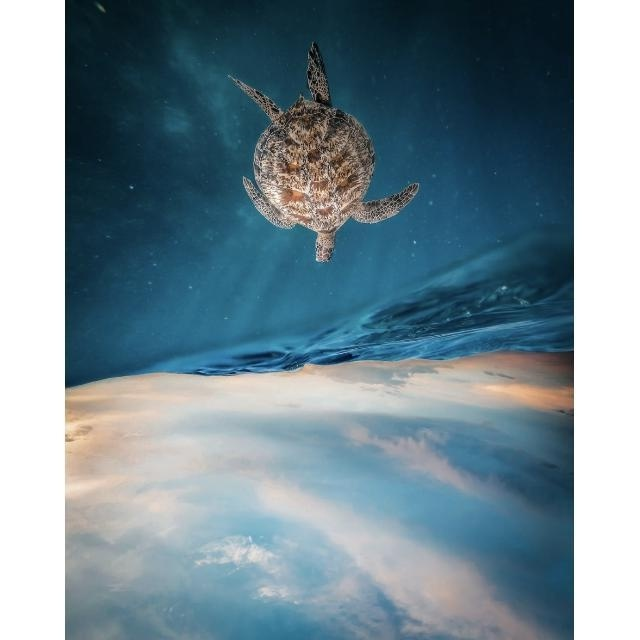turtle: (227, 40, 421, 264)
